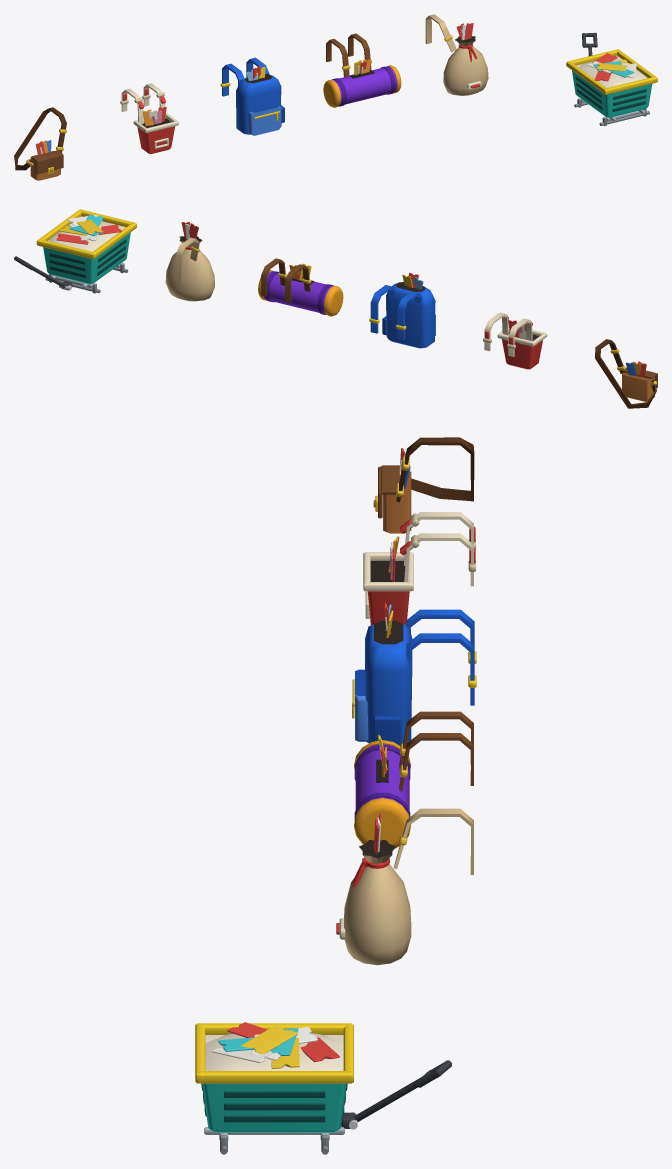
File: FWL_Bags.glb
The picture shows the model from 3 angles, top to bottom: view 1: azimuth 30°, elevation 25°; view 2: azimuth 150°, elevation 25°; view 3: azimuth 270°, elevation 25°; orthographic projection. The views are drawn at different scales.
Parts seen in each view (by area): view 1: Bag_Wagon, Bag_Backpack, Bag_Tube, Bag_Sack, Bag_TicketPouch, Bag_Satchel; view 2: Bag_Wagon, Bag_Backpack, Bag_Tube, Bag_Sack, Bag_TicketPouch, Bag_Satchel; view 3: Bag_Wagon, Bag_Backpack, Bag_Sack, Bag_Tube, Bag_TicketPouch, Bag_Satchel.
Boxes of the visible parts, left/top/right/bottom form: Bag_Wagon: left=566, top=32, right=657, bottom=126; Bag_Backpack: left=220, top=57, right=284, bottom=135; Bag_Tube: left=323, top=33, right=401, bottom=107; Bag_Sack: left=425, top=14, right=488, bottom=95; Bag_TicketPouch: left=120, top=83, right=178, bottom=153; Bag_Satchel: left=14, top=107, right=66, bottom=180; Bag_Wagon: left=14, top=209, right=136, bottom=293; Bag_Backpack: left=369, top=272, right=435, bottom=348; Bag_Tube: left=258, top=258, right=343, bottom=316; Bag_Sack: left=165, top=222, right=214, bottom=301; Bag_TicketPouch: left=483, top=312, right=547, bottom=369; Bag_Satchel: left=595, top=339, right=657, bottom=408; Bag_Wagon: left=195, top=1022, right=451, bottom=1154; Bag_Backpack: left=352, top=602, right=476, bottom=745; Bag_Sack: left=336, top=808, right=473, bottom=965; Bag_Tube: left=354, top=711, right=473, bottom=848; Bag_TicketPouch: left=363, top=512, right=475, bottom=625; Bag_Satchel: left=373, top=437, right=474, bottom=533.
Bounding box in the file's own units: 23.91 × 4.08 × 5.
1 material, 1 textured.
